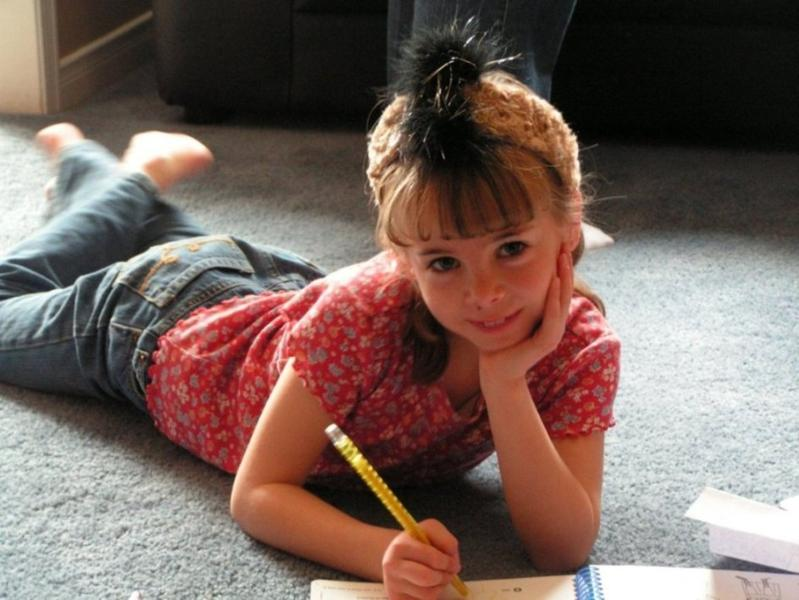person: (3, 28, 622, 599)
